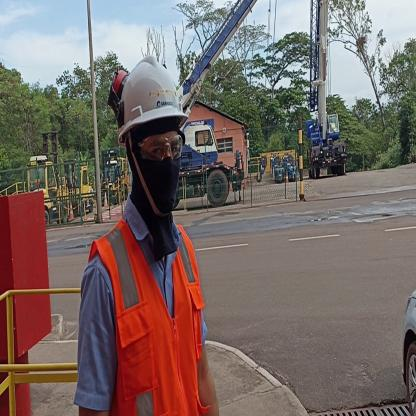Balaclava: (126, 128, 180, 244)
Capacete: (113, 63, 190, 124)
colete: (97, 222, 209, 416)
